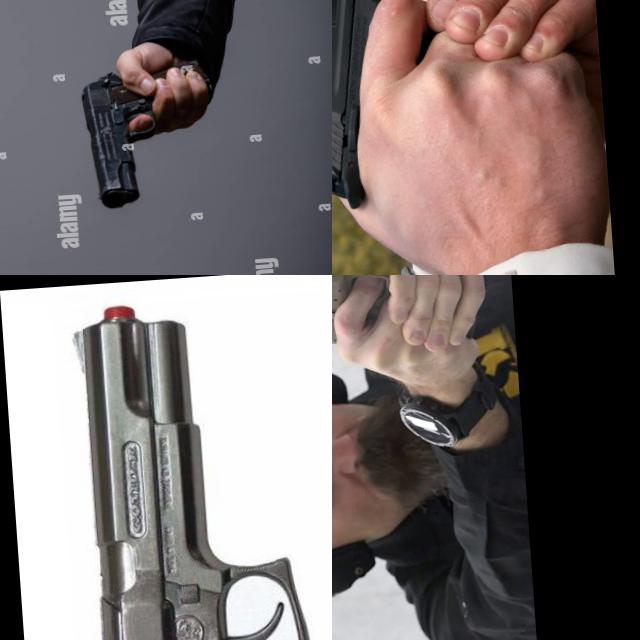handgun: (60, 278, 332, 640), (332, 0, 455, 217), (75, 66, 163, 210), (332, 275, 397, 350)
